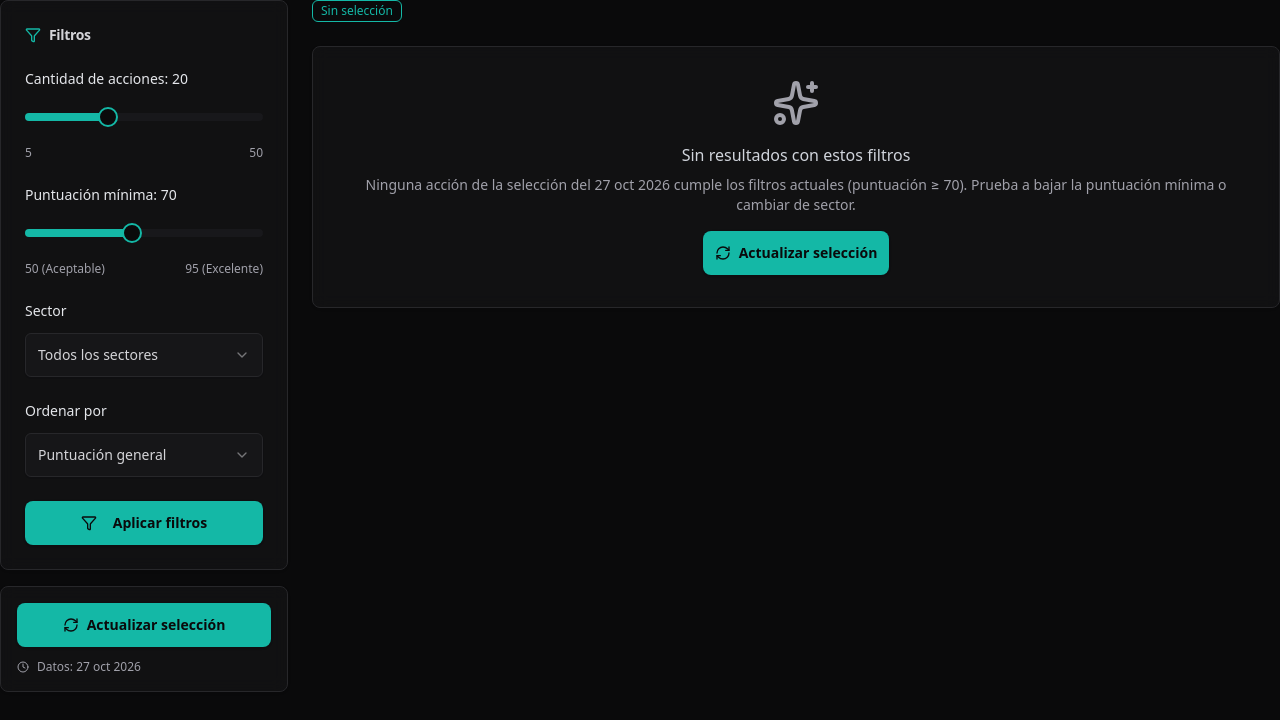
Test case: EnhancedProPicksContent: estados vacíos › con run que seleccionó empresas pero filtros que excluyen todo, lo distingue de un embudo vacío
Click the button "Actualizar selección" below "Sin resultados con estos filtros" at (796, 253), box 703,231 -> 889,275
(page scrolled)
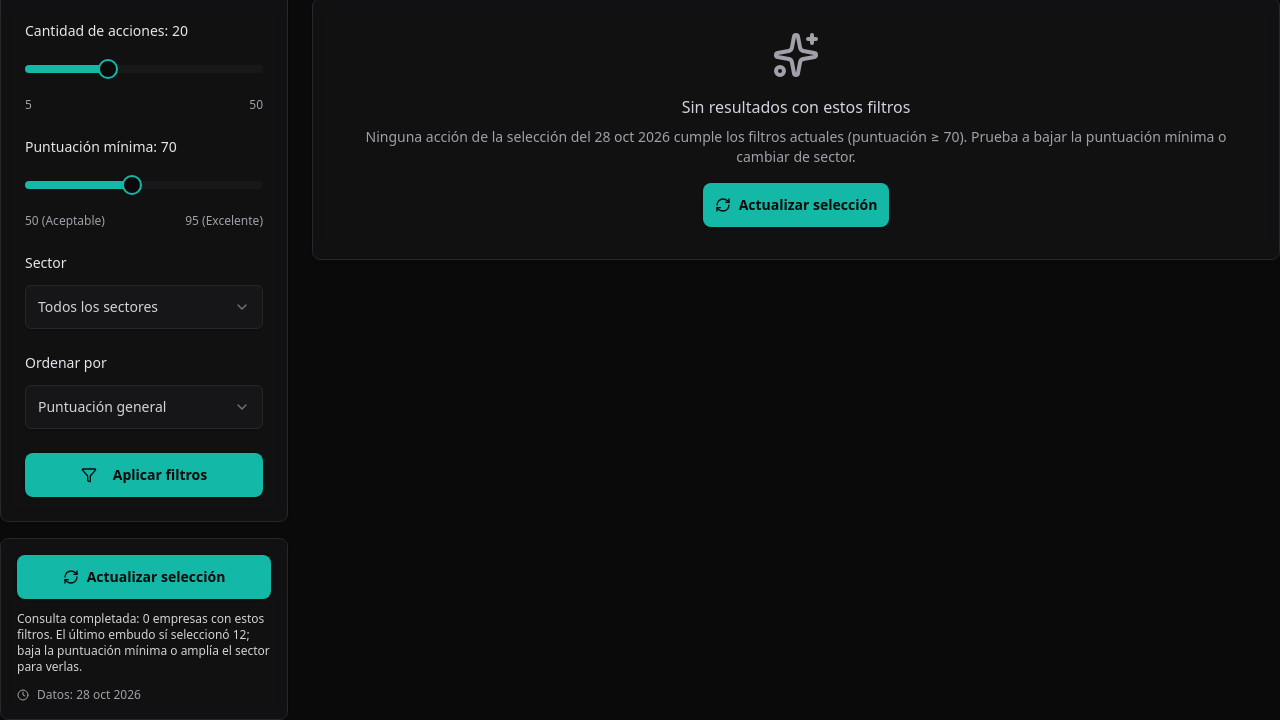
Check: the text "Consulta completada: 0 empresas con estos filtros. El último embudo sí seleccionó 12" is shown, box 17,610 -> 270,675
